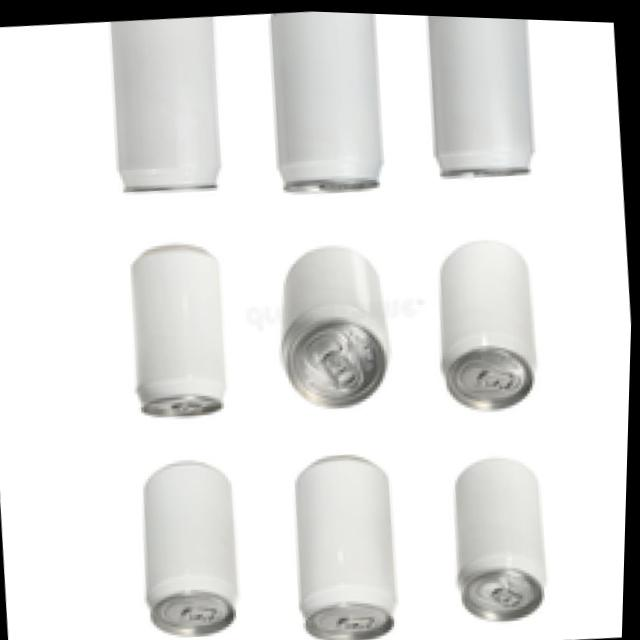aluminum_soda_cans: (265, 8, 394, 209), (282, 443, 413, 640), (271, 237, 403, 413), (426, 226, 551, 410), (100, 12, 217, 205), (419, 12, 541, 196), (137, 452, 253, 640), (126, 242, 236, 421), (444, 443, 552, 624)
